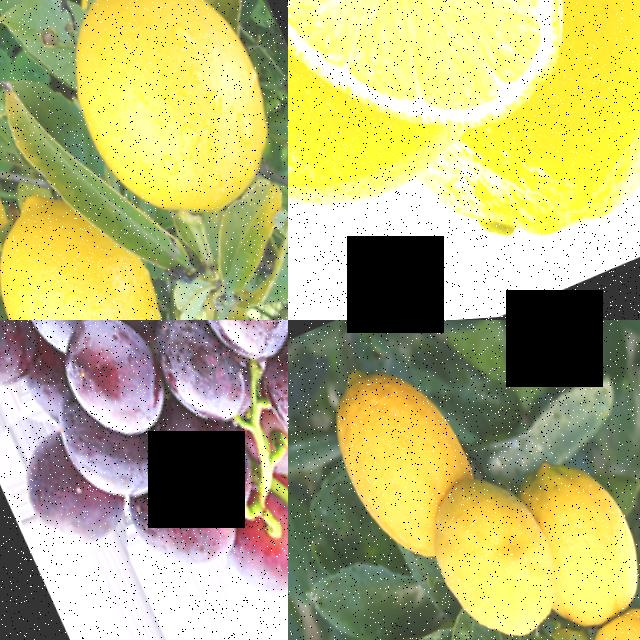grapes: (0, 320, 288, 640)
lemon: (24, 0, 288, 255), (288, 0, 596, 139), (295, 339, 475, 530), (398, 462, 572, 640), (506, 440, 640, 637), (0, 207, 165, 320)
